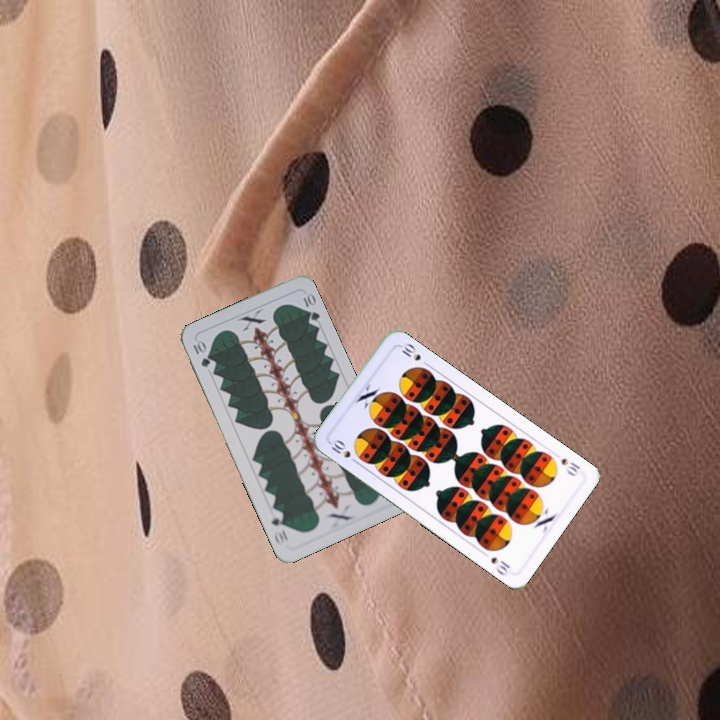G10: (189, 336, 213, 370)
S10: (327, 435, 361, 467), (557, 454, 583, 479)
